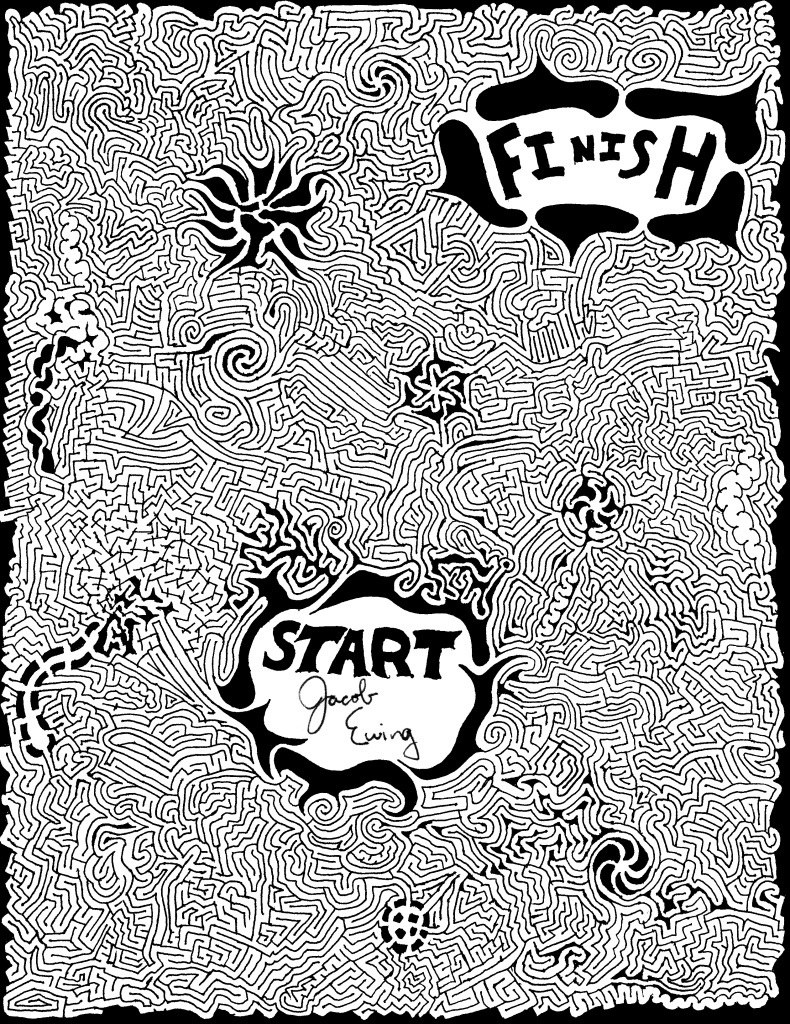maze: (6, 6, 783, 1006)
